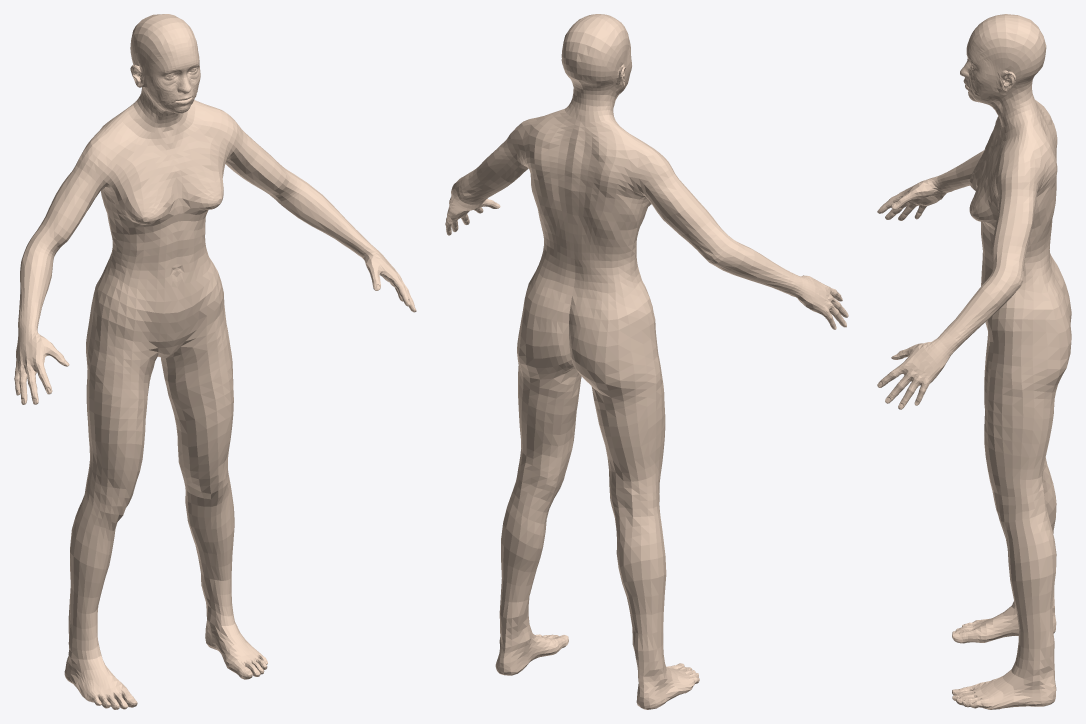
File: female-older-fit-high.glb
3 renders of one model, left to right at view 1: azimuth 30°, elevation 25°; view 2: azimuth 150°, elevation 25°; view 3: azimuth 270°, elevation 25°, orthographic.
Visible parts, largest first — view 1: world; view 2: world; view 3: world.
Part boxes in pixels (x1,y1,x2,y2): world: [14, 14, 416, 709]; world: [445, 14, 848, 709]; world: [877, 14, 1071, 709].
Size of the model in its own units: 1.13 by 1.8 by 0.4866.
